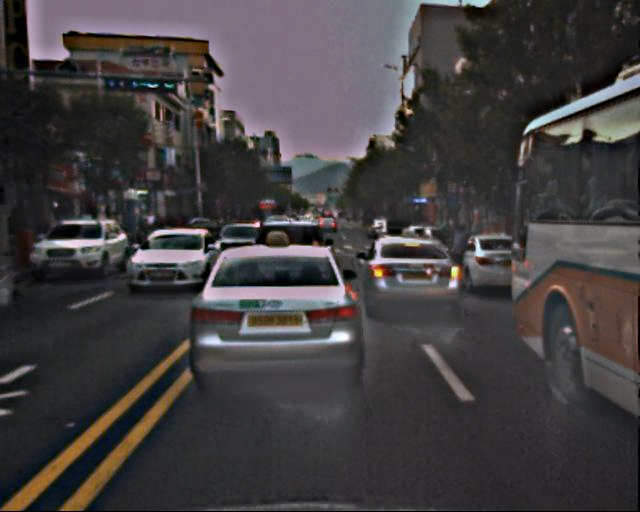person: (450, 225, 476, 299)
